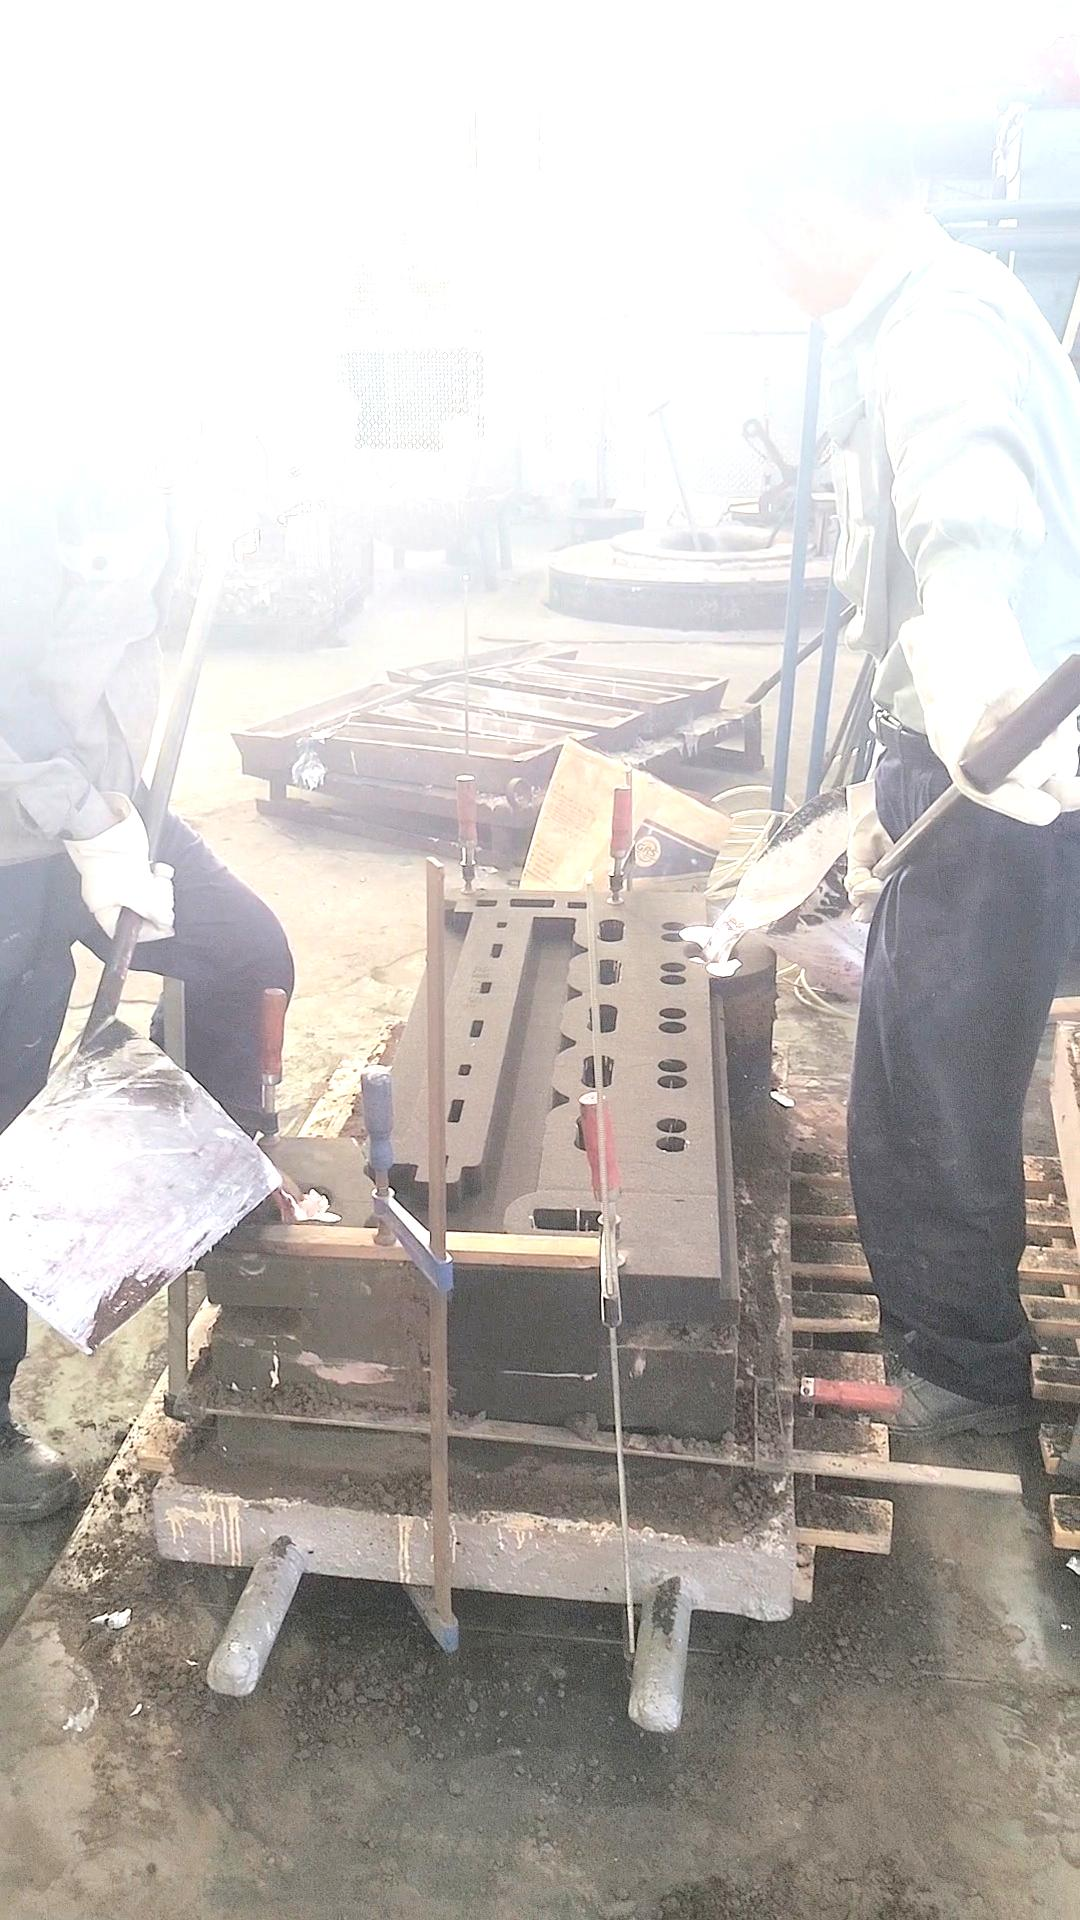pouring hole: (261, 1178, 334, 1222), (680, 942, 740, 965)
